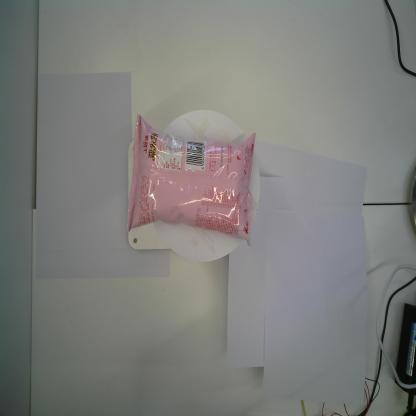Puffed Food: (124, 114, 258, 249)
